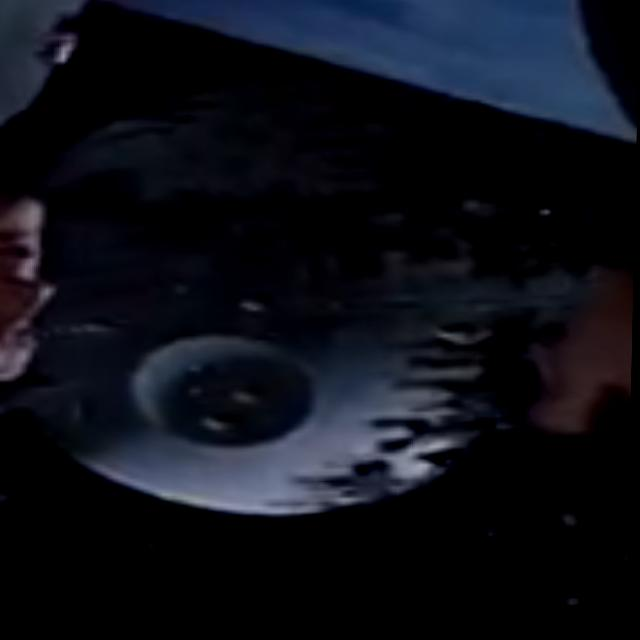deathStar: (9, 73, 583, 520)
